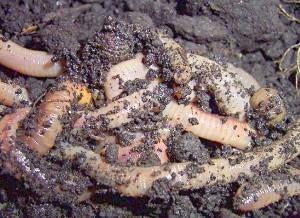earthworms: (4, 9, 268, 193)
